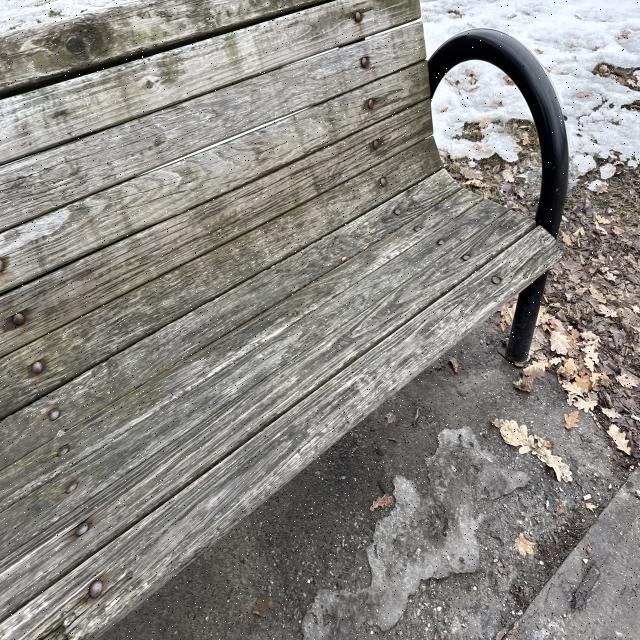Bench: (0, 26, 570, 639)
